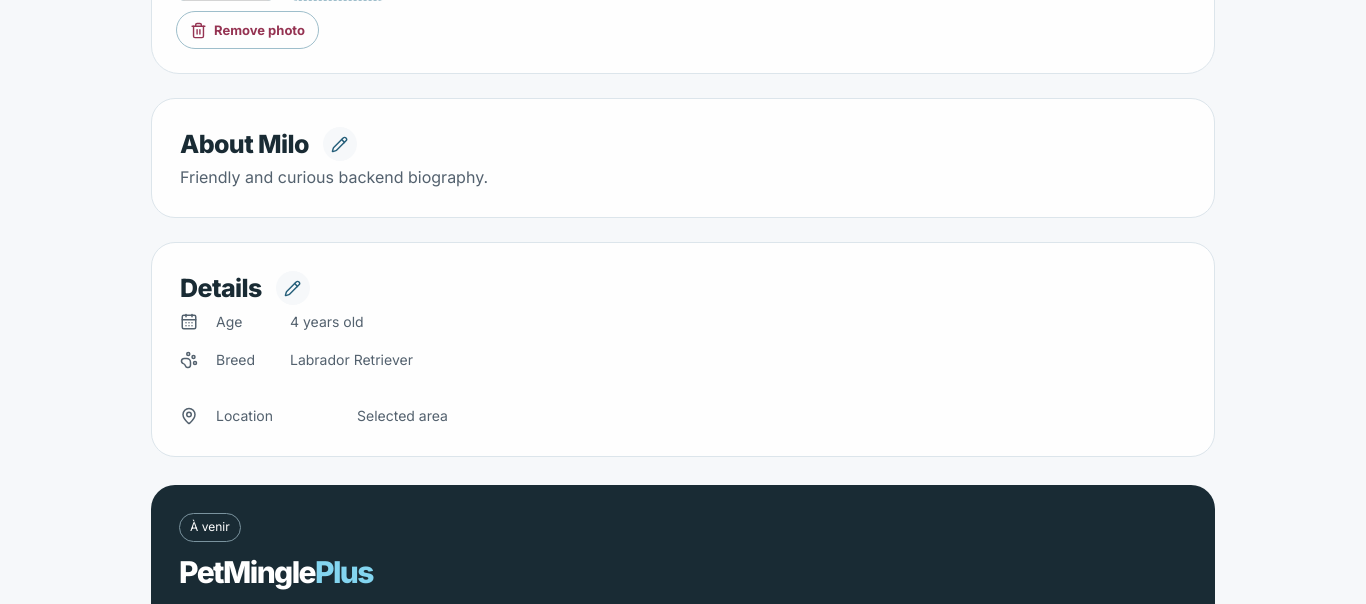
Test: Own pet profile › shows a safe authorization failure while preserving edit values
(page scrolled)
Click the button named "Edit pet details": (293, 288) left=276, top=271, right=310, bottom=305
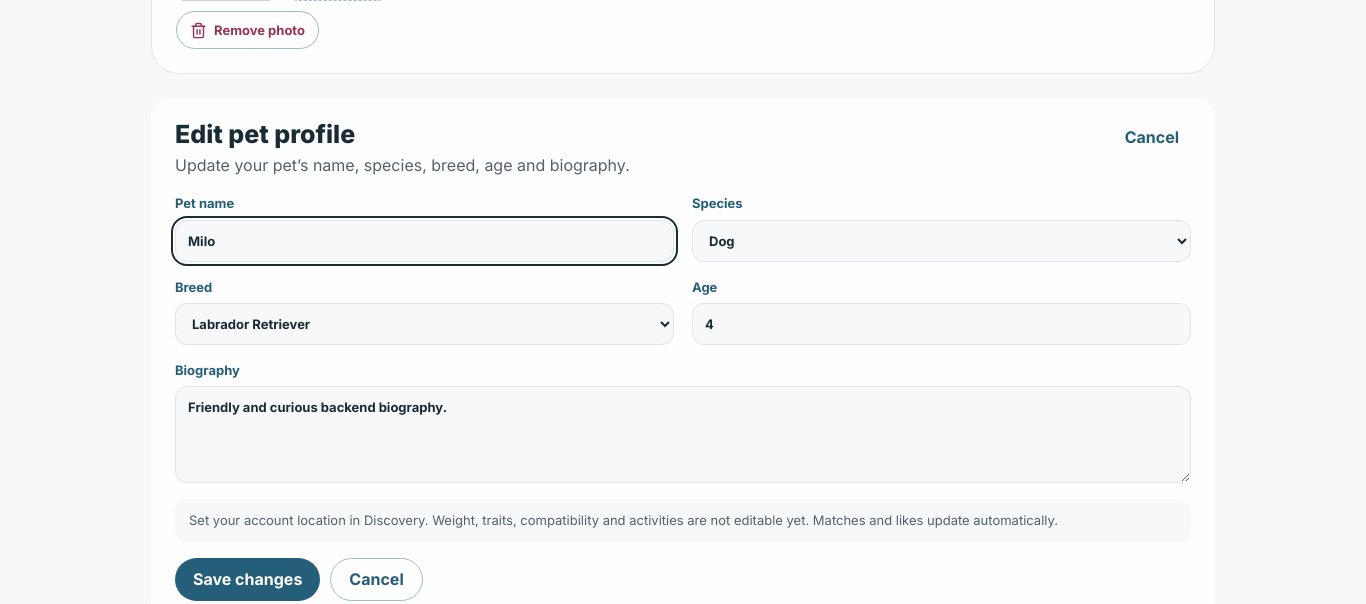
Replace the text in the field labelled "Pet name" with "Luna": (424, 241) left=175, top=220, right=674, bottom=262
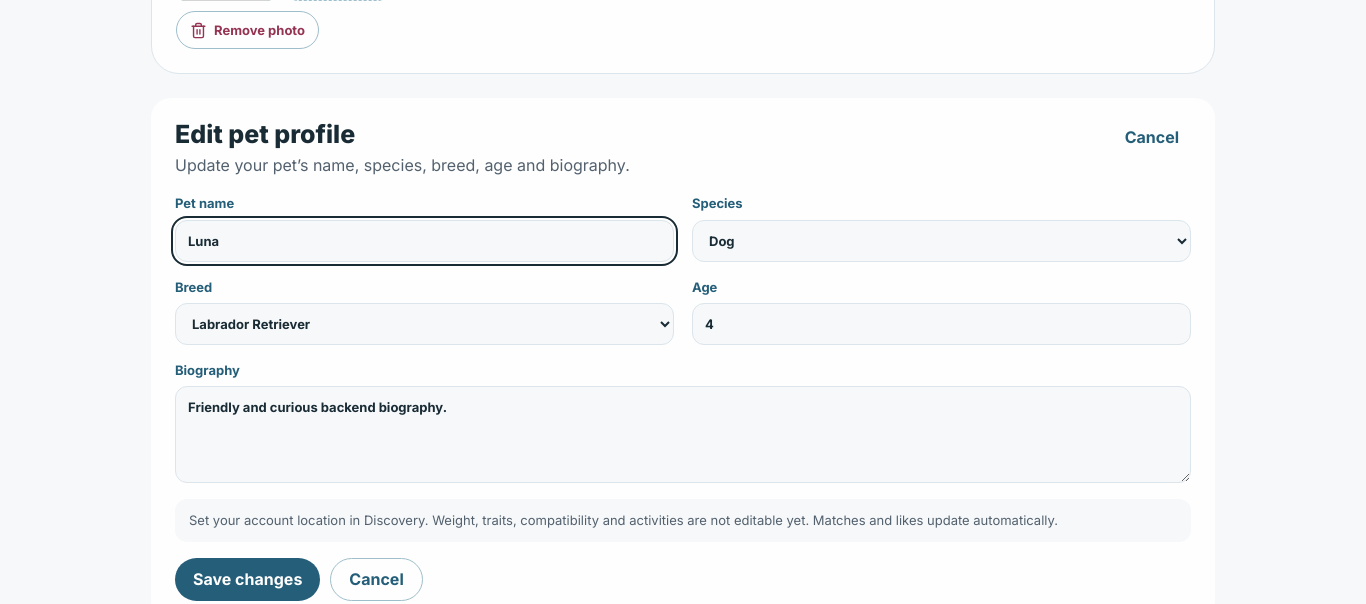
Click the button "Save changes": (248, 579) left=175, top=558, right=320, bottom=601
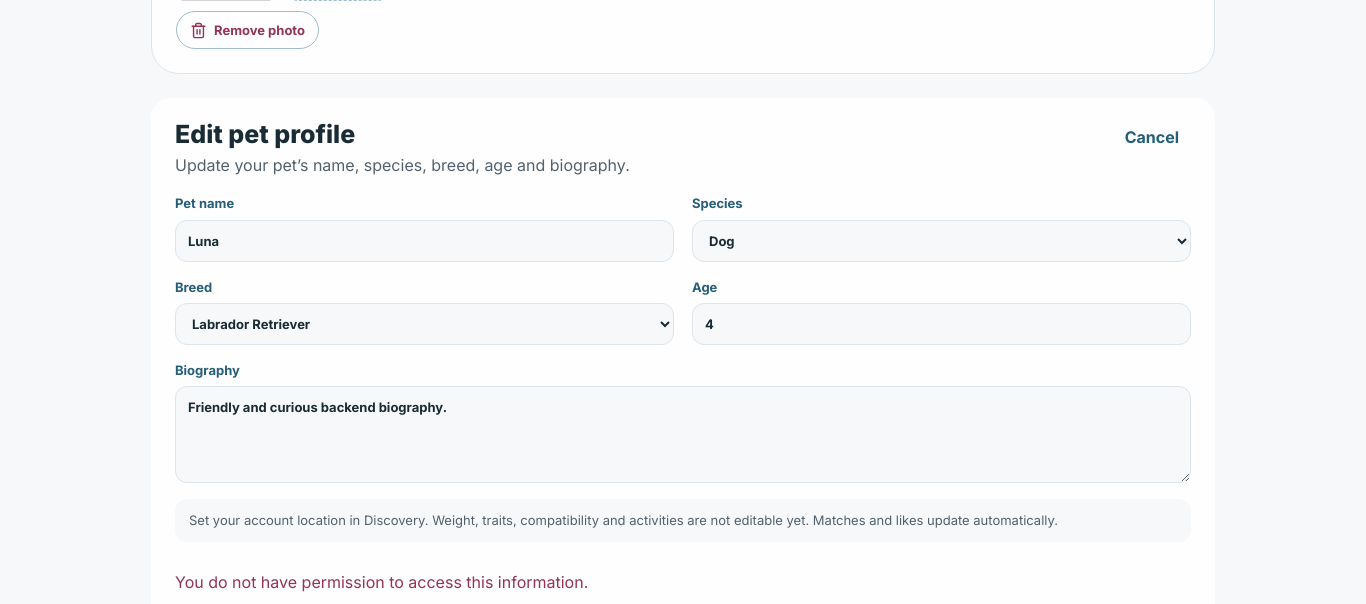
Check: the message reads "You do not have permission to access this information.", box left=175, top=572, right=588, bottom=592
